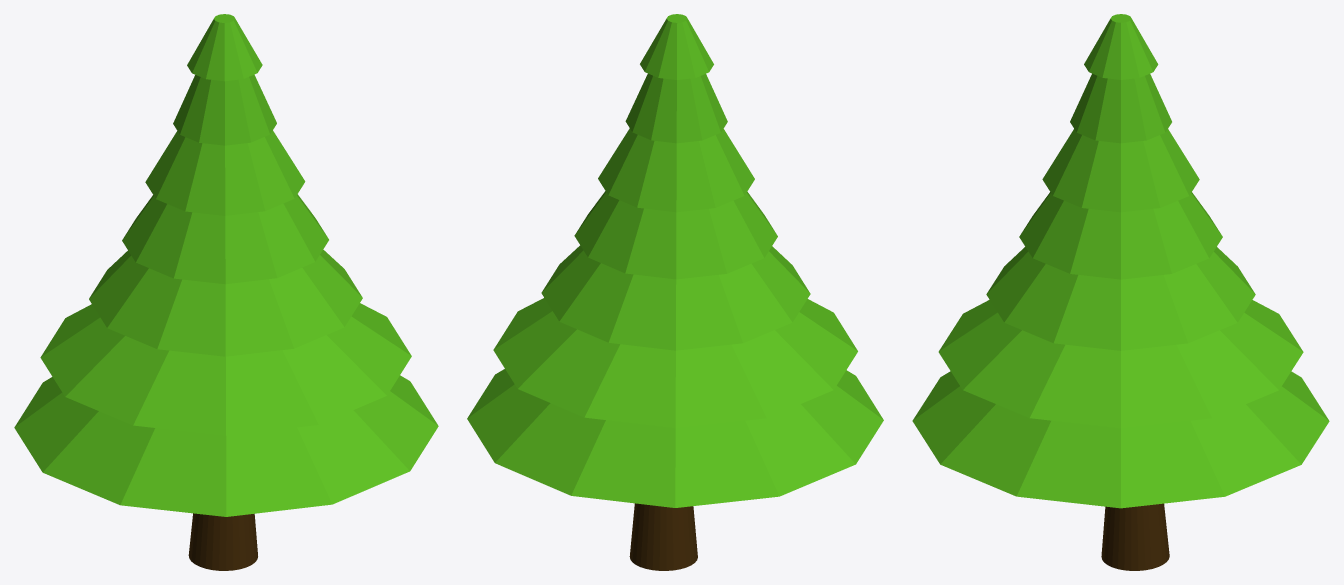
The picture shows the model from 3 angles, left to right: view 1: azimuth 30°, elevation 25°; view 2: azimuth 150°, elevation 25°; view 3: azimuth 270°, elevation 25°; orthographic projection.
Parts seen in each view (by area): view 1: Crown, Trunk; view 2: Crown, Trunk; view 3: Crown, Trunk.
Part boxes in pixels (<box>): Crown: <box>14,14,438,516</box>; Trunk: <box>188,513,257,570</box>; Crown: <box>467,14,883,507</box>; Trunk: <box>629,503,697,570</box>; Crown: <box>912,14,1329,508</box>; Trunk: <box>1101,503,1169,570</box>.
Bounding box in the file's own units: 308 × 436 × 308.
